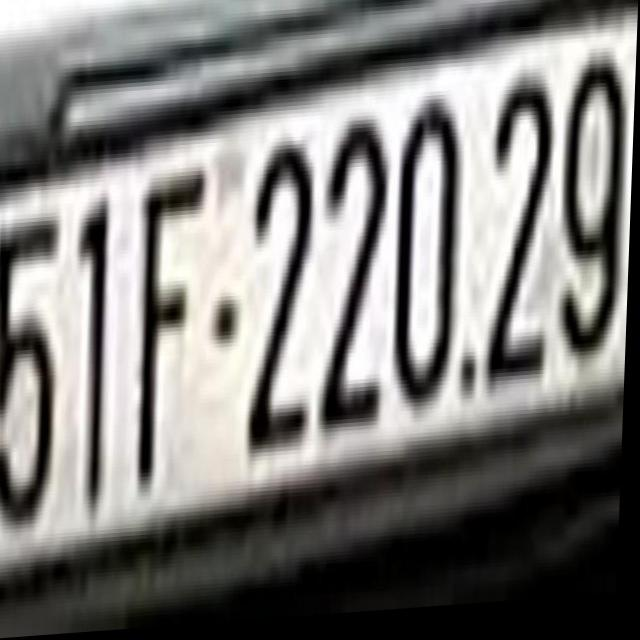0: (395, 62, 463, 395)
1: (76, 195, 122, 507)
2: (244, 124, 321, 466), (322, 105, 393, 434), (486, 76, 557, 382)
5: (0, 193, 72, 551)
9: (562, 64, 628, 386)
F: (135, 174, 208, 503)
